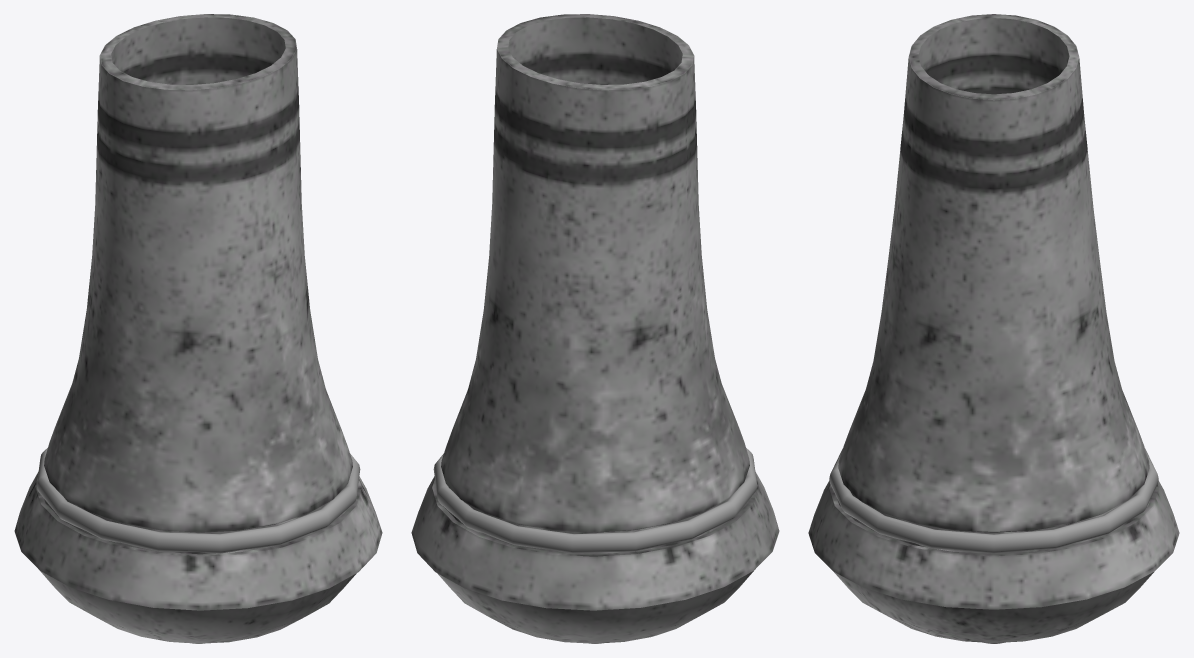
Rendered from wm_swan_knight_sword_b_pommel.fbx.
3 views of the same model, side by side, from view 1: azimuth 30°, elevation 25°; view 2: azimuth 150°, elevation 25°; view 3: azimuth 270°, elevation 25° (orthographic).
Parts seen in each view (by area): view 1: wm_swan_knight_sword_b_pommel; view 2: wm_swan_knight_sword_b_pommel; view 3: wm_swan_knight_sword_b_pommel.
Boxes of the visible parts, x1=… form: wm_swan_knight_sword_b_pommel: x1=14, y1=14, x2=382, y2=643; wm_swan_knight_sword_b_pommel: x1=411, y1=14, x2=779, y2=643; wm_swan_knight_sword_b_pommel: x1=808, y1=14, x2=1179, y2=643.
Size of the model in its own units: 0.0534 by 0.0546 by 0.0941.
Materials: 1 (1 with a texture image).
